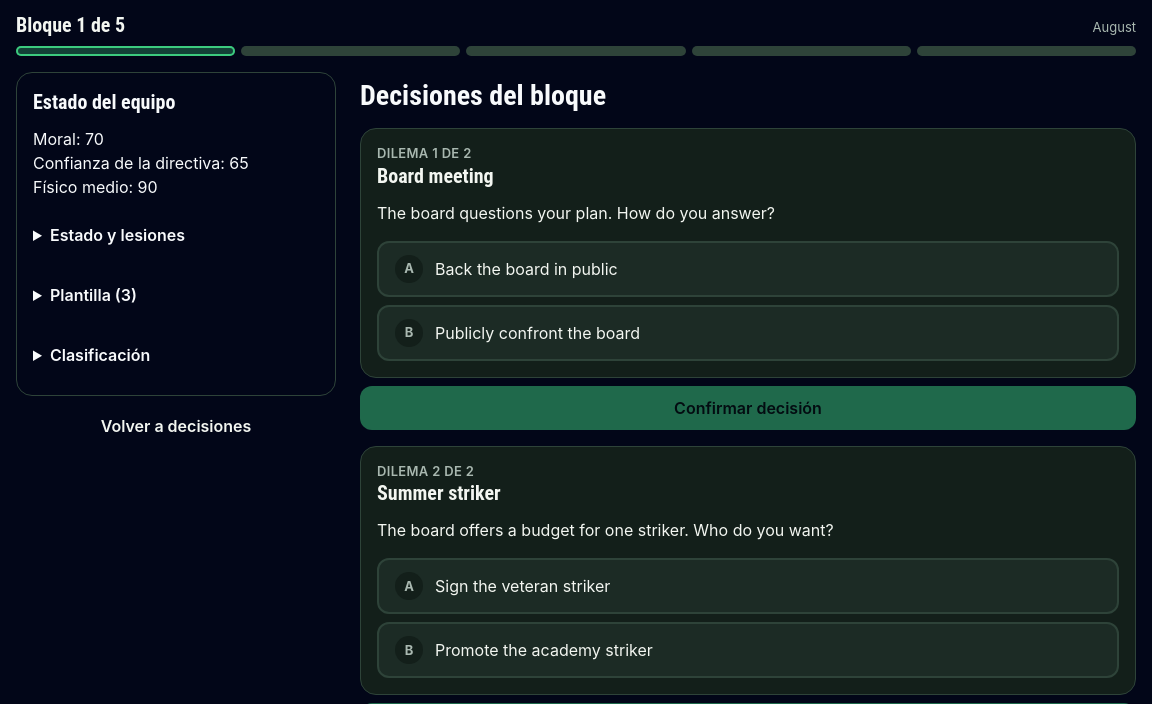
Scenario: RunLoop › simulates only after the individual decisions have been confirmed
Expected: the heading "Board meeting" is shown, [377,164,494,188]
Click the button "A Back the board in public".
click(526, 269)  # box [377,241,1119,297]
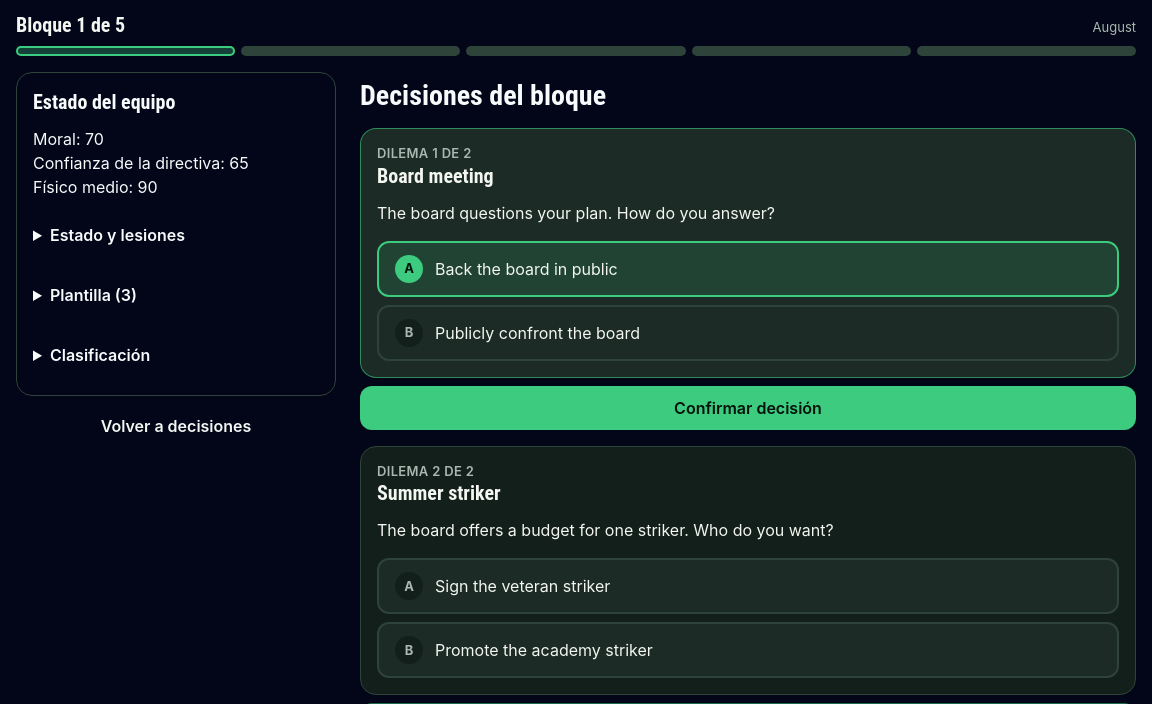
Click the button with aria-label "Confirmar: Board meeting".
click(748, 408)  # box [360,386,1136,430]
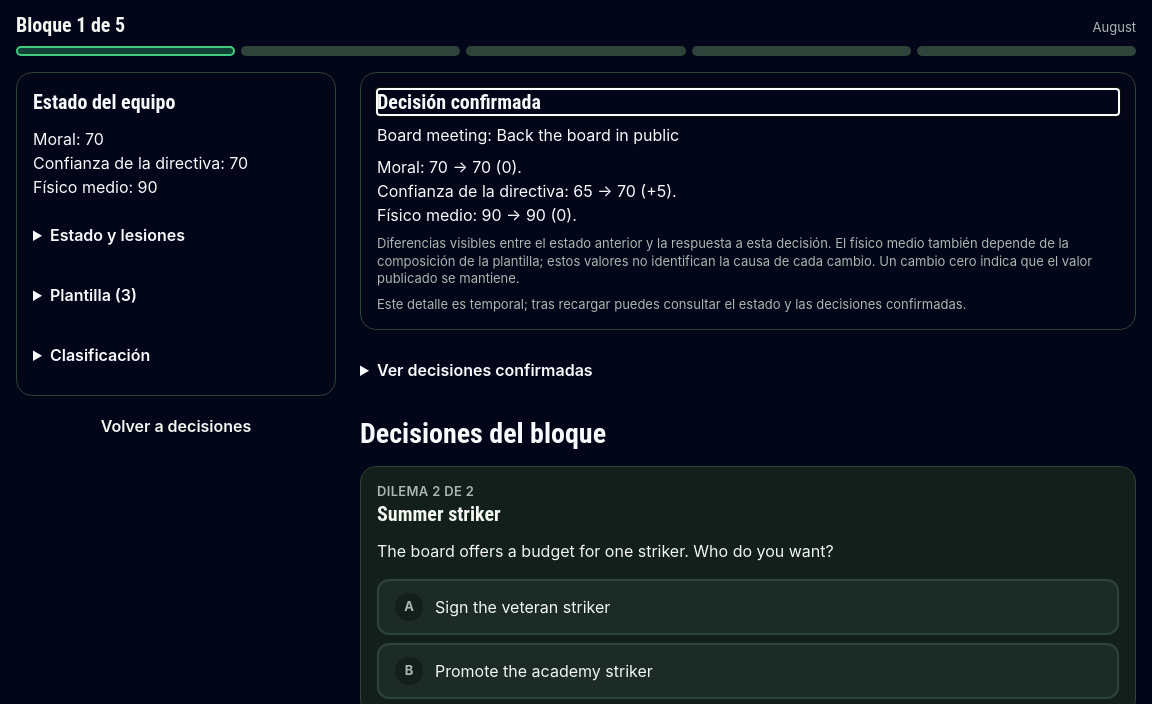
Click the button "A Sign the veteran striker".
click(523, 607)  # box [377,579,1119,635]
(page scrolled)
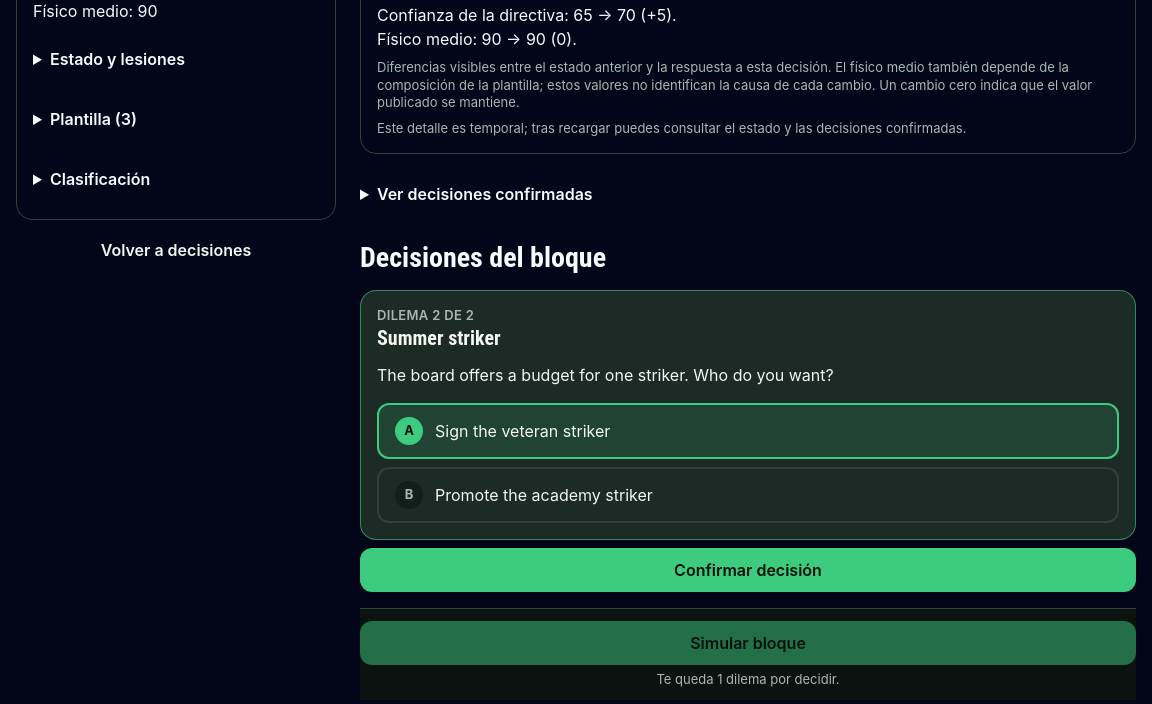
Click the button "Confirmar decisión".
click(748, 570)  # box [360,548,1136,592]
(page scrolled)
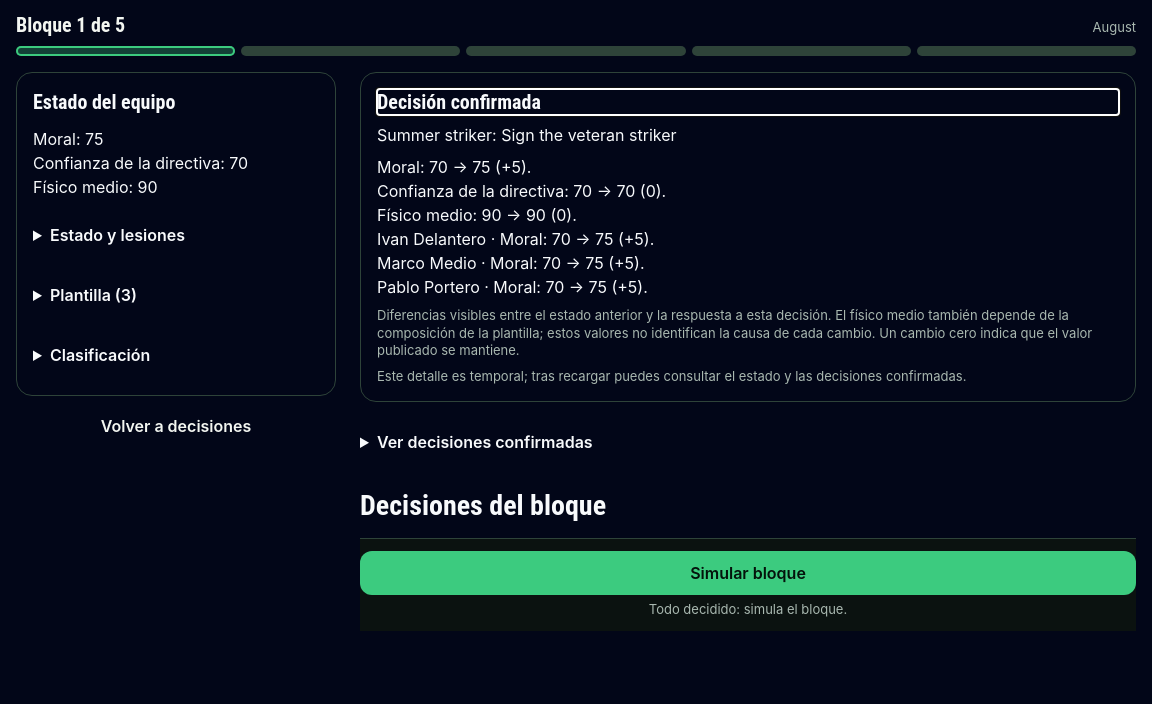
Click the button "Simular bloque".
click(748, 573)  # box [360,551,1136,595]
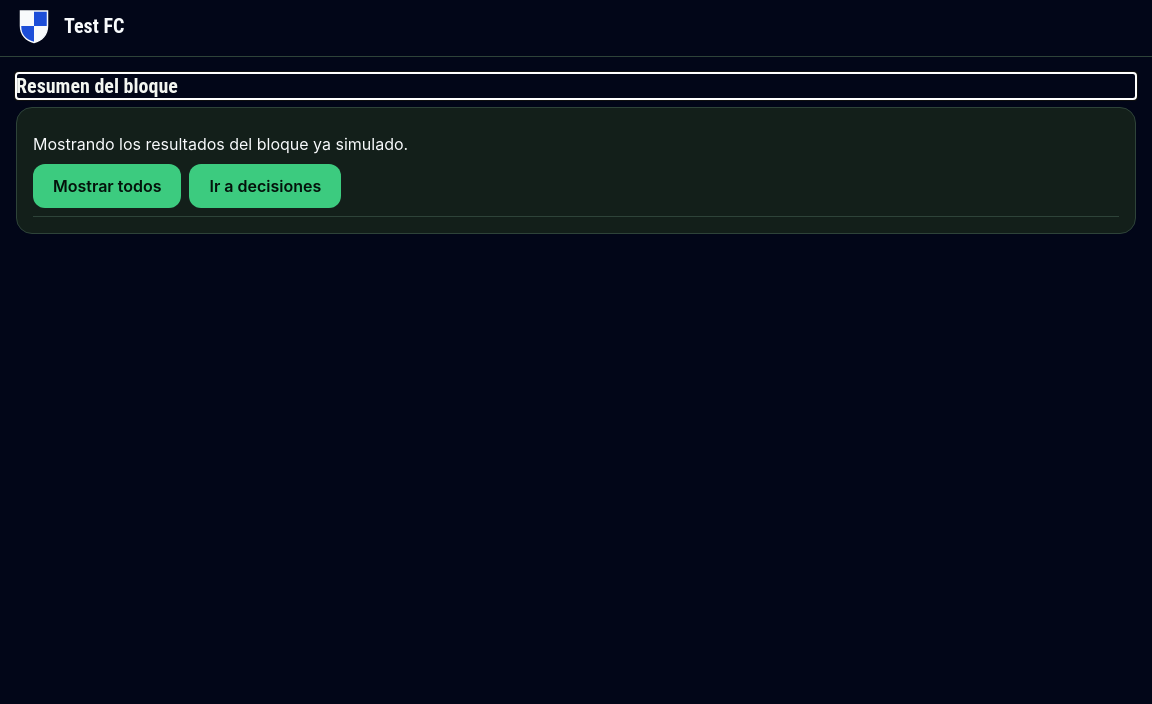
Expected: the element "Resumen del bloque" is shown, [16,73,1136,234]
